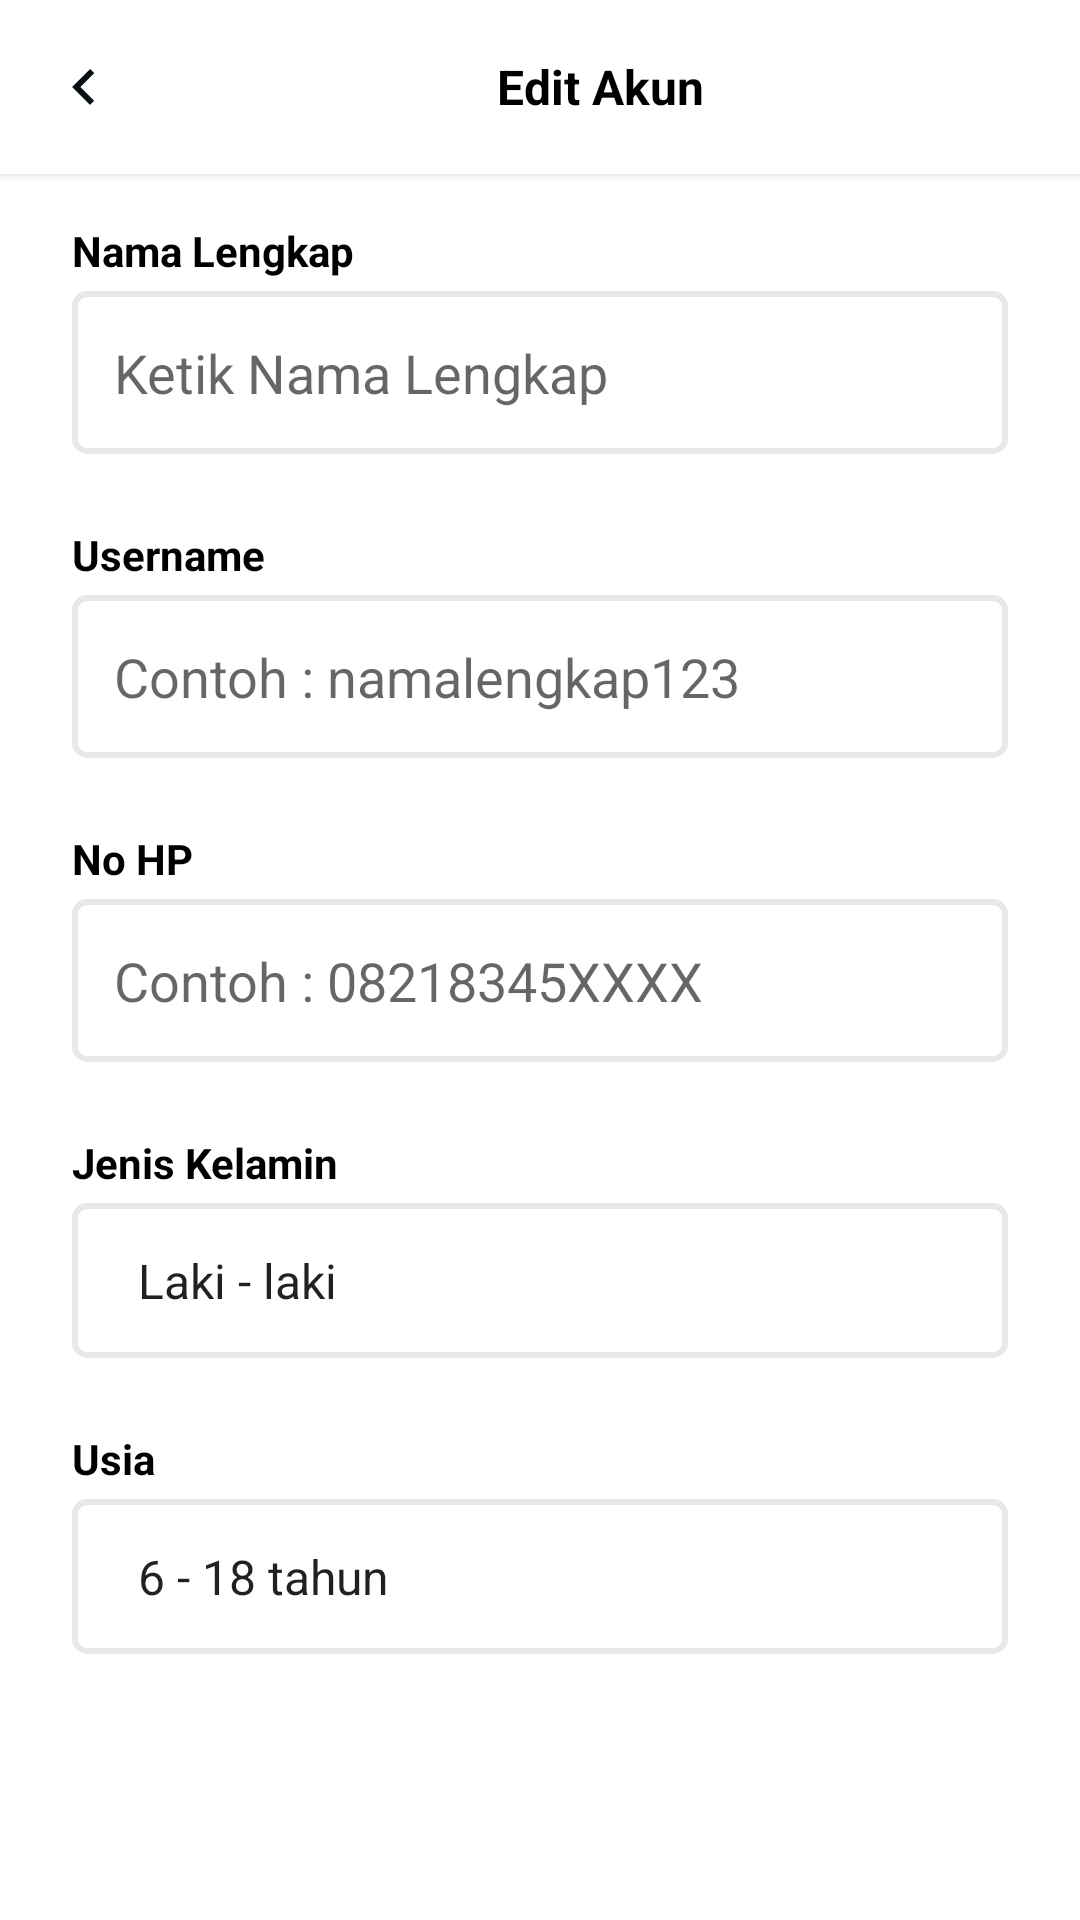

Icon click points for this 1080*1920 phone screenshot, format (x,y):
back: (83,87)
